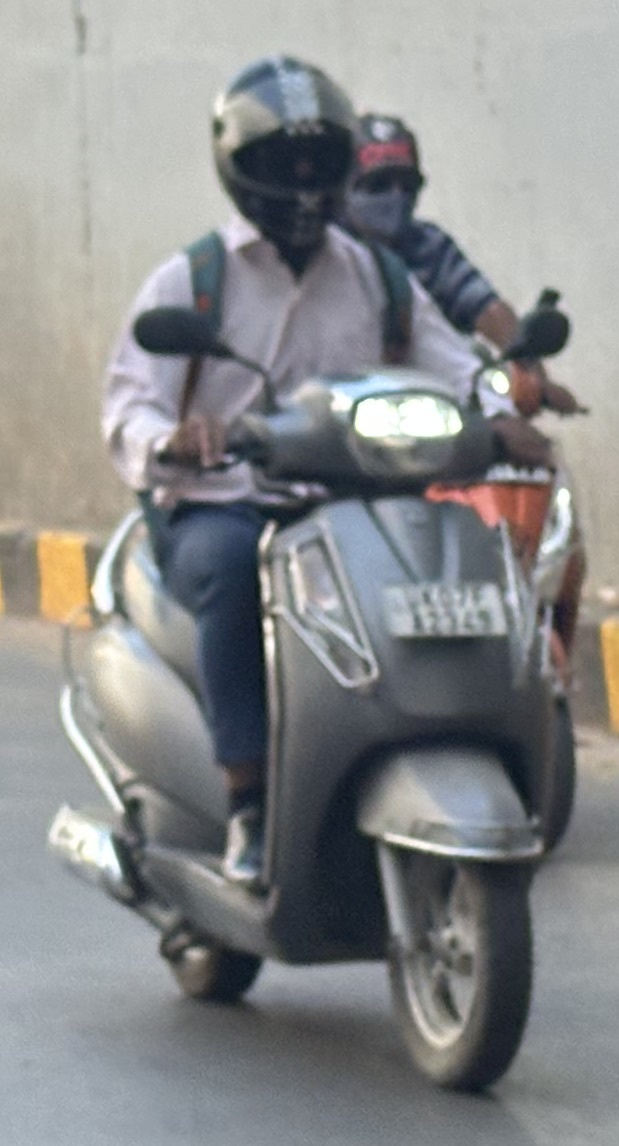BikeWithRider: (35, 44, 601, 1104), (319, 102, 614, 868)
Helmet: (194, 43, 370, 265)
NoHelmet: (326, 103, 445, 251)
